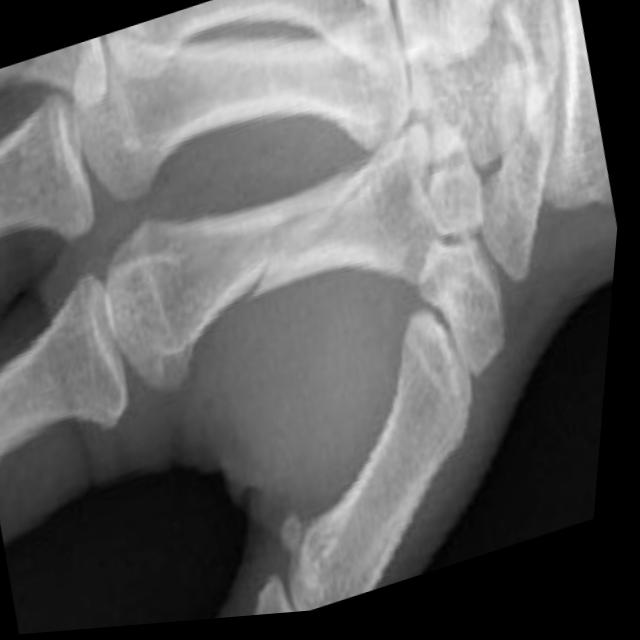fracture: (213, 189, 325, 331)
